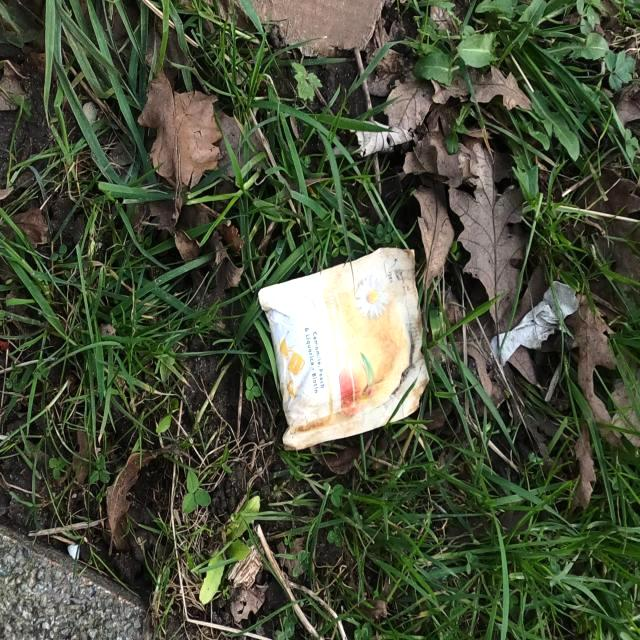Plastic: (262, 240, 436, 452)
